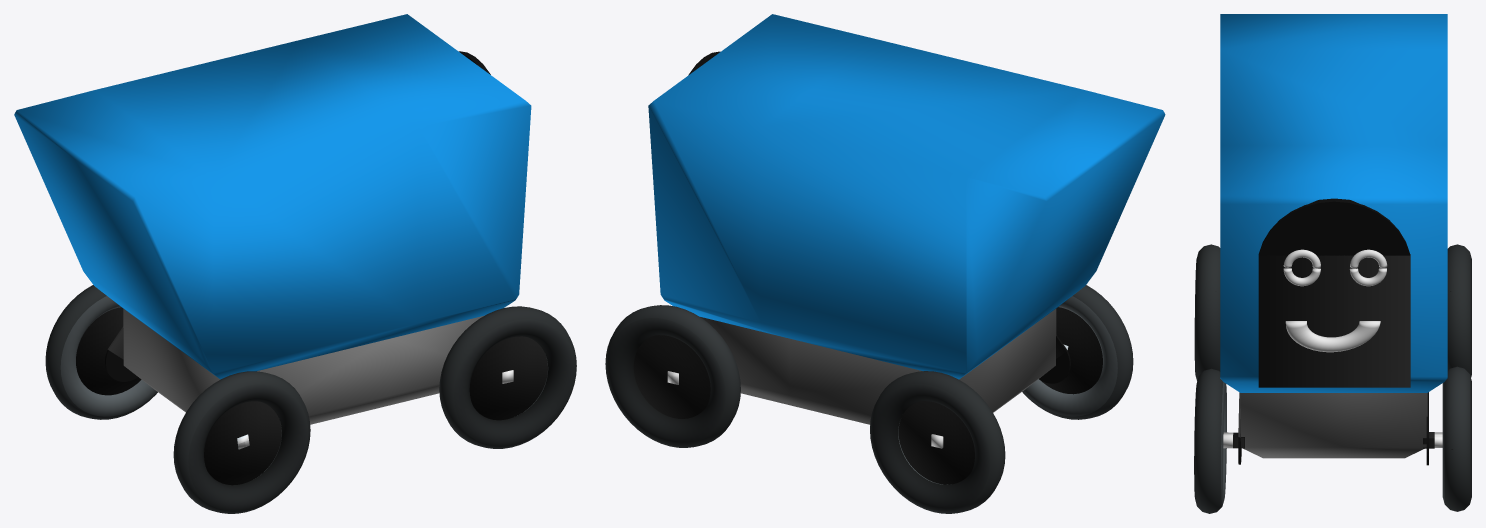
The model's file is RobotcarFinal.fbx.
3 renders of one model, left to right at view 1: azimuth 30°, elevation 25°; view 2: azimuth 150°, elevation 25°; view 3: azimuth 270°, elevation 25°, orthographic. The views are drawn at different scales.
Visible parts, largest first — view 1: UpperBody, Wheel_FR, Wheel_BR, LowerBody, Wheel_BL, Wheel_BL.handle; view 2: UpperBody, LowerBody, Wheel_BL, Wheel_FL, Wheel_BR, Wheel_BR.handle; view 3: UpperBody, Face, LowerBody, Wheel_FR, Wheel_FL, Wheel_BR, Wheel_BL, Face.smile.001, Face.eyeL, Face.eyeR, Wheel_FR.handle, Wheel_FL.handle.
Part boxes in pixels (x1,y1,x2,y2): UpperBody: (14,14,531,379); Wheel_FR: (439,306,576,448); Wheel_BR: (173,371,310,513); LowerBody: (123,309,484,424); Wheel_BL: (45,285,157,419); Wheel_BL.handle: (105,326,137,381); UpperBody: (648,14,1165,379); LowerBody: (700,309,1056,424); Wheel_BL: (870,371,1005,513); Wheel_FL: (605,305,740,447); Wheel_BR: (1022,285,1133,419); Wheel_BR.handle: (1039,334,1070,383); UpperBody: (1220,14,1447,392); Face: (1258,198,1410,387); LowerBody: (1240,393,1427,458); Wheel_FR: (1194,368,1233,513); Wheel_FL: (1434,366,1471,511); Wheel_BR: (1194,244,1220,381); Wheel_BL: (1447,244,1471,377); Face.smile.001: (1285,321,1380,352); Face.eyeL: (1349,249,1387,286); Face.eyeR: (1283,249,1320,286); Wheel_FR.handle: (1233,392,1244,464); Wheel_FL.handle: (1423,392,1434,465).
Size of the model in its own units: 829 by 611 by 478.
3 materials, 1 textured.
